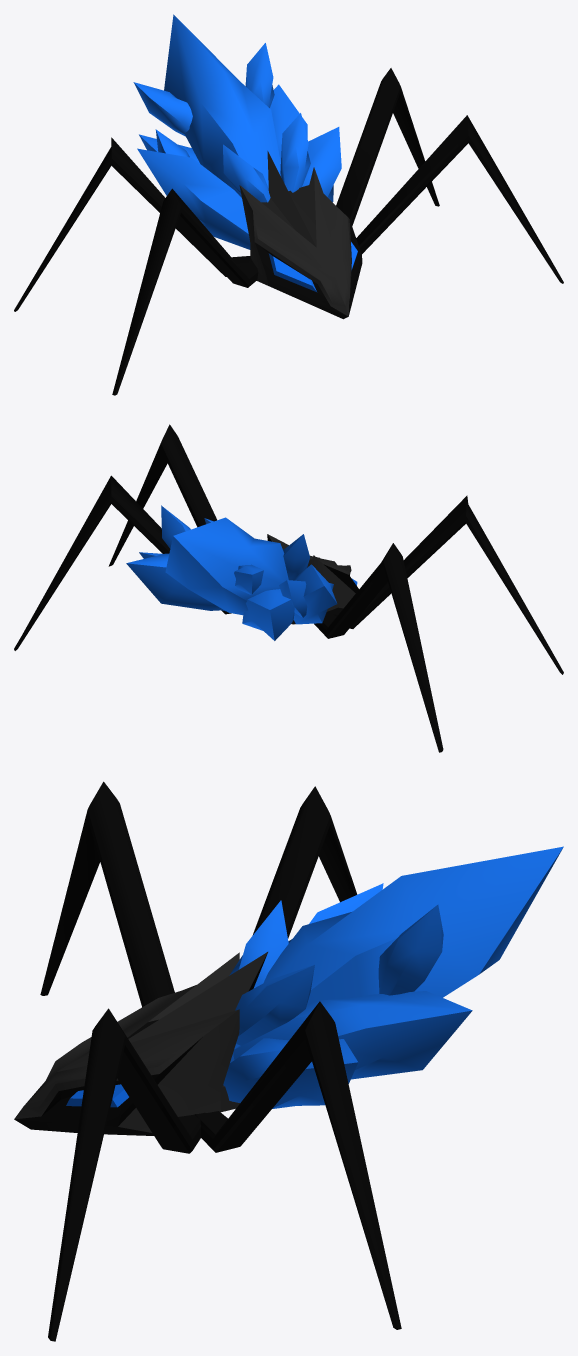
File: enemy jumping for unity. c4d.fbx
The picture shows the model from 3 angles, top to bottom: view 1: azimuth 30°, elevation 25°; view 2: azimuth 150°, elevation 25°; view 3: azimuth 270°, elevation 25°; orthographic projection. The views are drawn at different scales.
Visible parts, largest first — view 1: Symmetry_1; view 2: Symmetry_1; view 3: Symmetry_1.
Boxes of the visible parts, x1,y1,x2,y2 form: Symmetry_1: (14,14,563,395); Symmetry_1: (14,424,563,752); Symmetry_1: (14,781,563,1341).
Bounding box in the file's own units: 1077 × 466 × 722.
